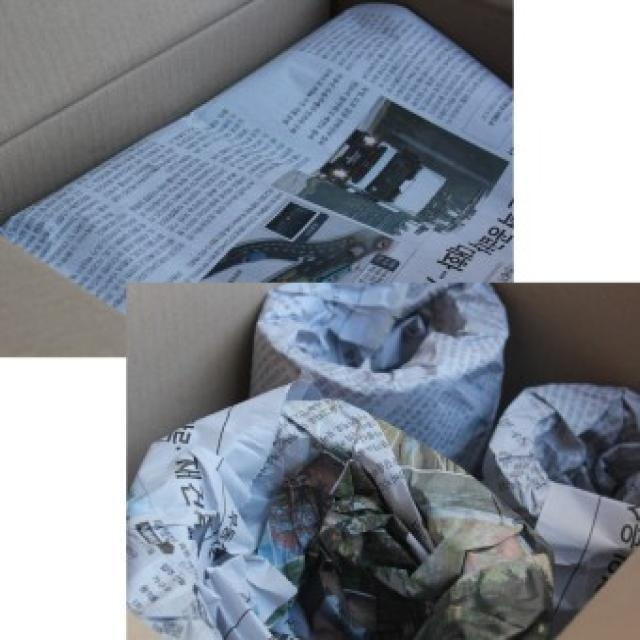Newspaper: (8, 2, 515, 321), (128, 381, 552, 640)
